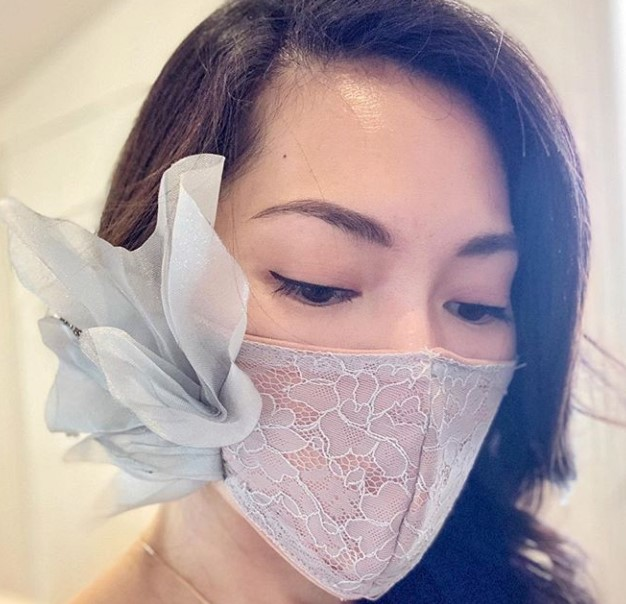face_with_mask: (63, 15, 560, 597)
